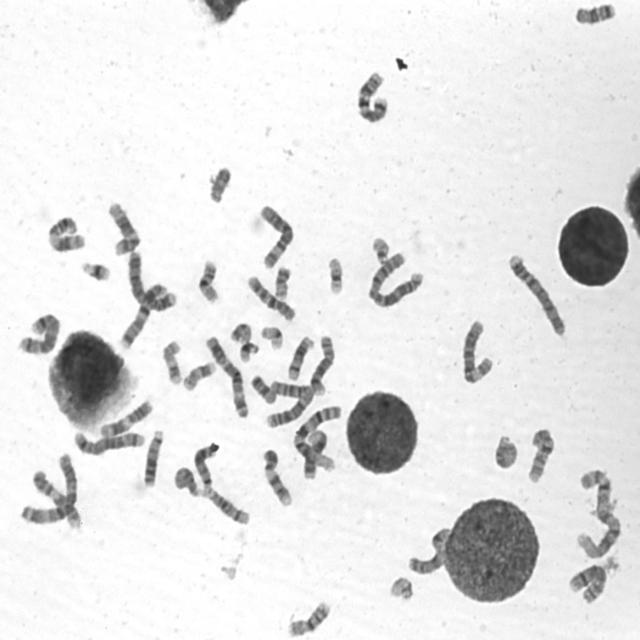A1: (572, 467, 623, 561), (290, 401, 343, 477)
A2: (365, 248, 426, 310), (264, 380, 316, 430)
A3: (17, 449, 78, 526), (202, 331, 251, 419)
B4: (505, 250, 568, 339), (125, 247, 177, 313)
B5: (14, 309, 62, 356), (70, 428, 146, 457)
C10: (243, 271, 298, 323), (524, 424, 556, 485)
C11: (96, 397, 154, 439), (44, 212, 86, 254)
C12: (104, 198, 142, 257), (300, 429, 328, 483)
C6: (256, 201, 296, 270), (459, 316, 495, 385)
C7: (115, 279, 169, 350), (353, 67, 390, 124)
C8: (565, 560, 609, 606), (308, 332, 336, 396)
C9: (29, 467, 83, 530), (259, 446, 294, 508)
D13: (140, 426, 165, 488), (190, 440, 219, 491)
D14: (201, 484, 251, 526), (284, 333, 316, 382)
D15: (170, 462, 206, 498), (491, 431, 519, 471)
E16: (284, 597, 332, 638), (194, 256, 221, 305)
E17: (179, 358, 218, 392), (159, 337, 184, 386)
E18: (571, 1, 618, 26), (248, 372, 277, 406)
F19: (324, 253, 344, 297), (258, 322, 284, 352)
F20: (271, 263, 292, 301), (227, 320, 253, 344)
G21: (78, 257, 112, 283), (237, 339, 260, 363)
G22: (386, 573, 415, 602), (368, 233, 391, 265)
X: (404, 524, 451, 577)
Y: (205, 162, 233, 205)
